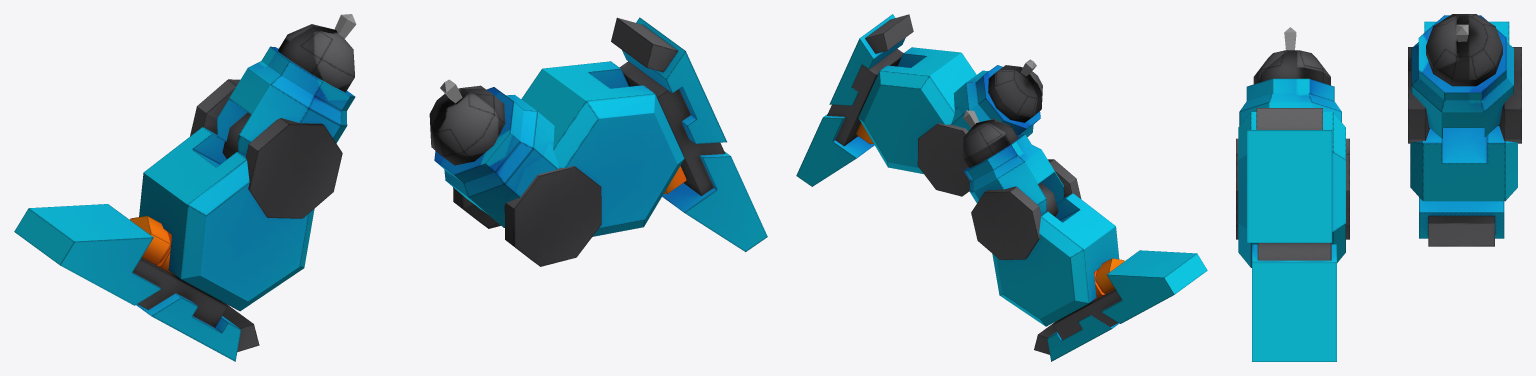
Rendered from Bottom_Running0.obj.
The picture shows the model from 3 angles, left to right: view 1: azimuth 30°, elevation 25°; view 2: azimuth 150°, elevation 25°; view 3: azimuth 270°, elevation 25°; orthographic projection. The views are drawn at different scales.
Parts seen in each view (by area): view 1: Object010, Object013, Object011, Object014, Object012, Object009; view 2: Object010, Object013, Object011, Object014, Object009, Object012; view 3: Object014, Object009, Object010, Object012, Object013, Object011, Bone023.
Part boxes in pixels (box(x1,y1,x2,y2)): Object010: box(139, 79, 342, 311); Object013: box(453, 61, 684, 266); Object011: box(14, 204, 259, 361); Object014: box(611, 17, 767, 251); Object012: box(429, 85, 559, 227); Object009: box(217, 24, 355, 156); Object010: box(971, 159, 1119, 326); Object013: box(858, 47, 976, 196); Object011: box(1034, 250, 1207, 361); Object014: box(796, 14, 913, 186); Object009: box(962, 119, 1064, 214); Object012: box(951, 65, 1042, 136); Object014: box(1247, 108, 1336, 361); Object009: box(1411, 14, 1513, 138); Object010: box(1408, 47, 1521, 201); Object012: box(1239, 50, 1341, 125); Object013: box(1236, 112, 1349, 267); Object011: box(1419, 21, 1509, 246); Bone023: box(1284, 27, 1296, 50).
Bounding box in the file's own units: 219 × 102 × 94.84.
